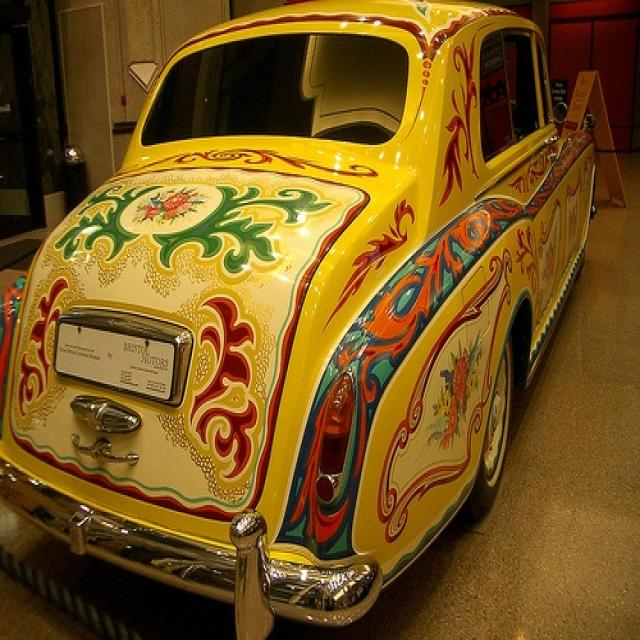car: (0, 2, 598, 638)
